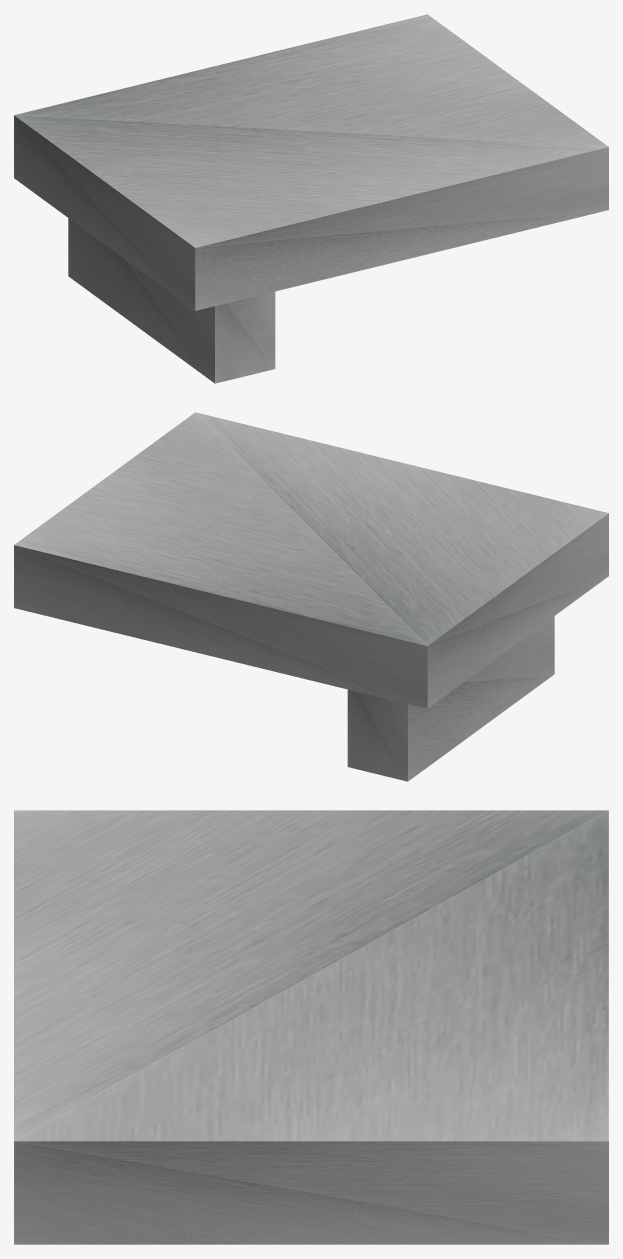
The model's file is assemblage chassis.dae.
The picture shows the model from 3 angles, top to bottom: view 1: azimuth 30°, elevation 25°; view 2: azimuth 150°, elevation 25°; view 3: azimuth 270°, elevation 25°; orthographic projection. The views are drawn at different scales.
Parts seen in each view (by area): view 1: Assemblage_Chassis; view 2: Assemblage_Chassis; view 3: Assemblage_Chassis.
Boxes of the visible parts, left/top/right/bottom form: Assemblage_Chassis: left=14, top=14, right=608, bottom=383; Assemblage_Chassis: left=14, top=412, right=608, bottom=781; Assemblage_Chassis: left=14, top=810, right=608, bottom=1244.
Bounding box in the file's own units: 6.87 × 5.22 × 2.5.
